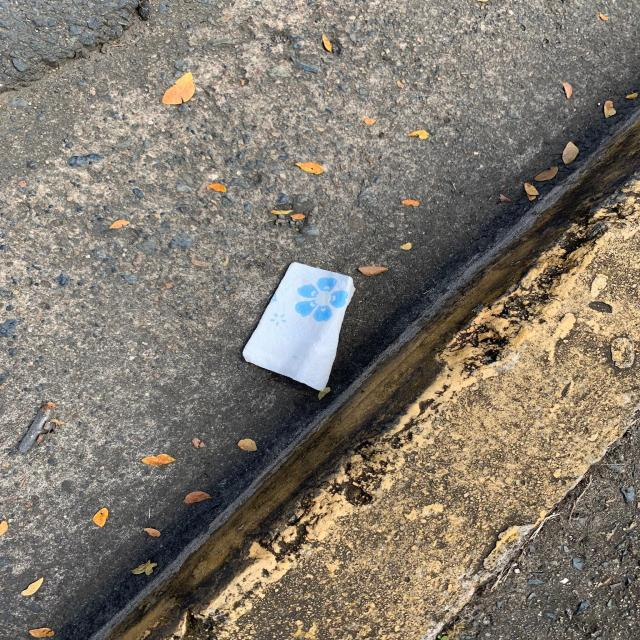litter: (242, 262, 355, 392)
